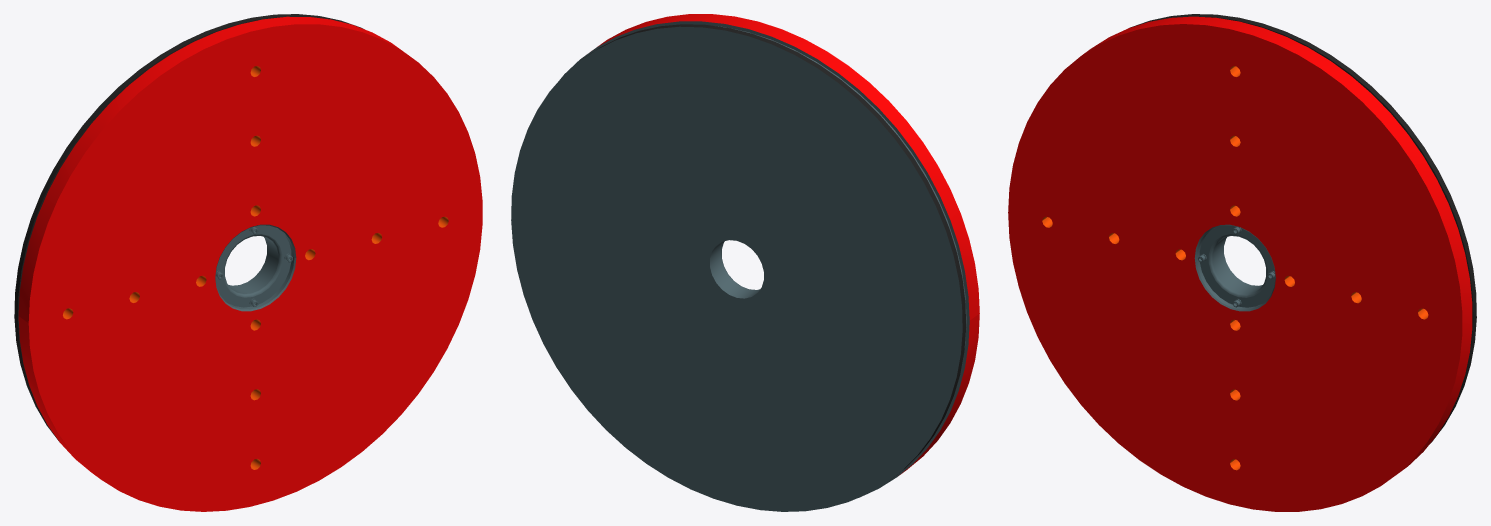
The model's file is Faceplate_mesh.dae.
The picture shows the model from 3 angles, left to right: view 1: azimuth 30°, elevation 25°; view 2: azimuth 150°, elevation 25°; view 3: azimuth 330°, elevation 25°; orthographic projection.
Visible parts, largest first — view 1: Node_00000256766E2620 (×4); view 2: Node_00000256766E2620 (×3); view 3: Node_00000256766E2620 (×4).
Boxes of the visible parts, x1,y1,x2,y2 form: Node_00000256766E2620 (×4): (14, 14, 482, 511); Node_00000256766E2620 (×3): (511, 14, 979, 511); Node_00000256766E2620 (×4): (1008, 14, 1476, 511).
Size of the model in its own units: 0.7495 by 0.7498 by 0.045.
